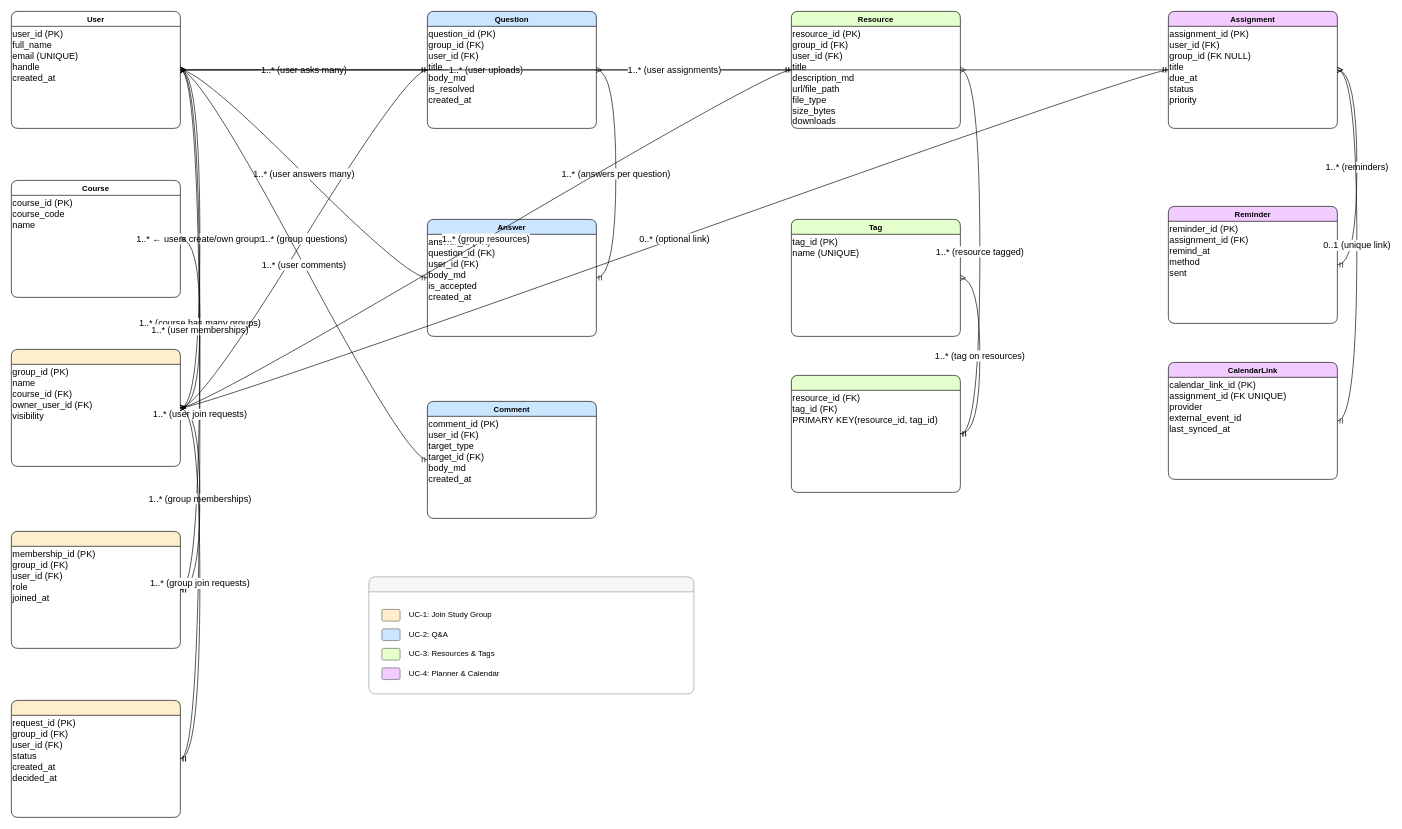
Image size: 1402x829. Some labels were removed from this diagram. The shapes that lost their labels are listed below. From the top down, each one's box as (x1, y1, x2, y2) in pixels, then its label:
(11, 349, 180, 466): StudyGroup
(791, 375, 960, 492): ResourceTag
(11, 531, 180, 648): GroupMembership
(368, 576, 694, 694): Legend
(11, 700, 180, 817): JoinRequest
